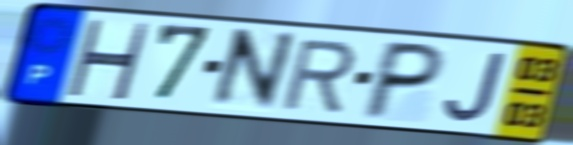7: (154, 21, 214, 106)
H: (63, 16, 153, 102)
J: (441, 50, 511, 125)
N: (204, 26, 301, 113)
P: (356, 38, 450, 122)
R: (278, 38, 359, 114)
